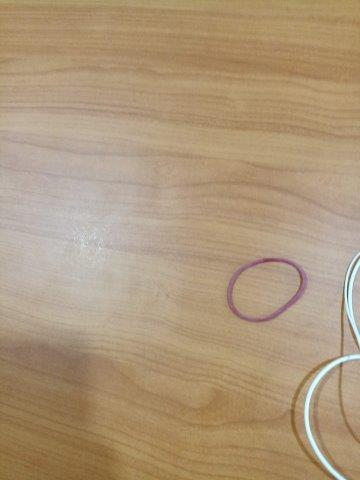karet: (226, 257, 307, 323)
